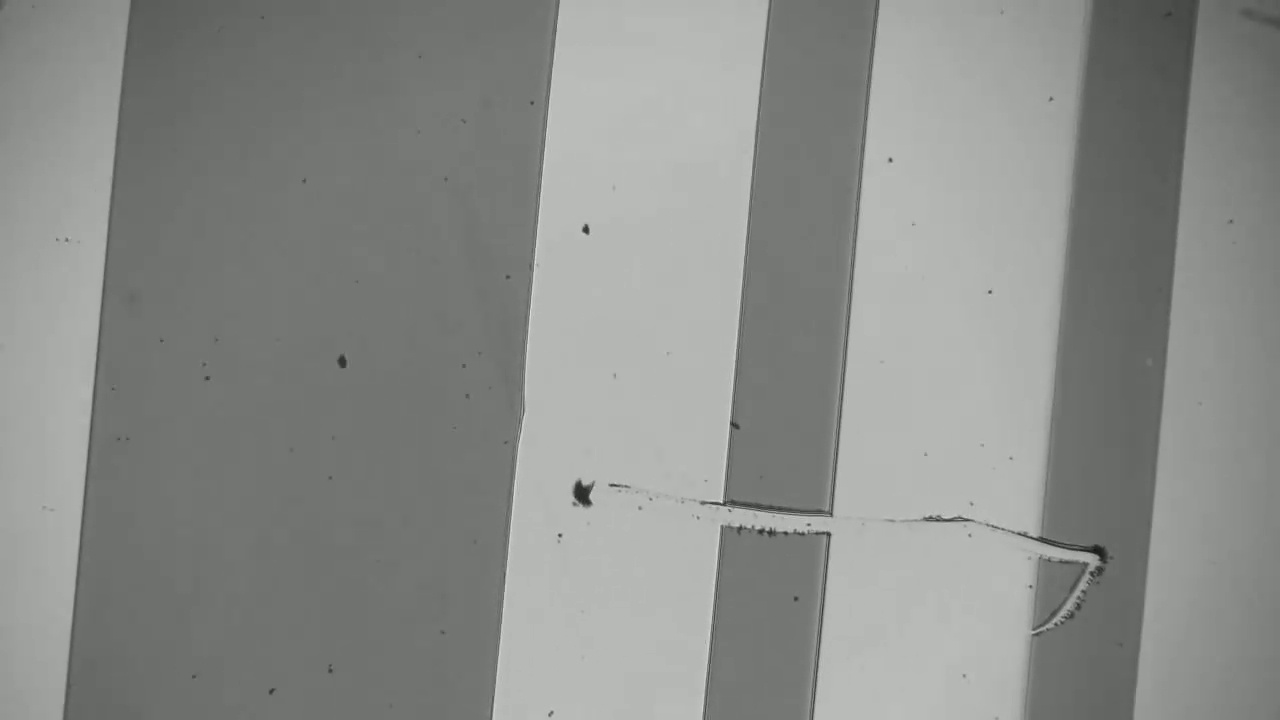Short_circuit: (689, 473, 857, 558), (1007, 515, 1173, 592)
